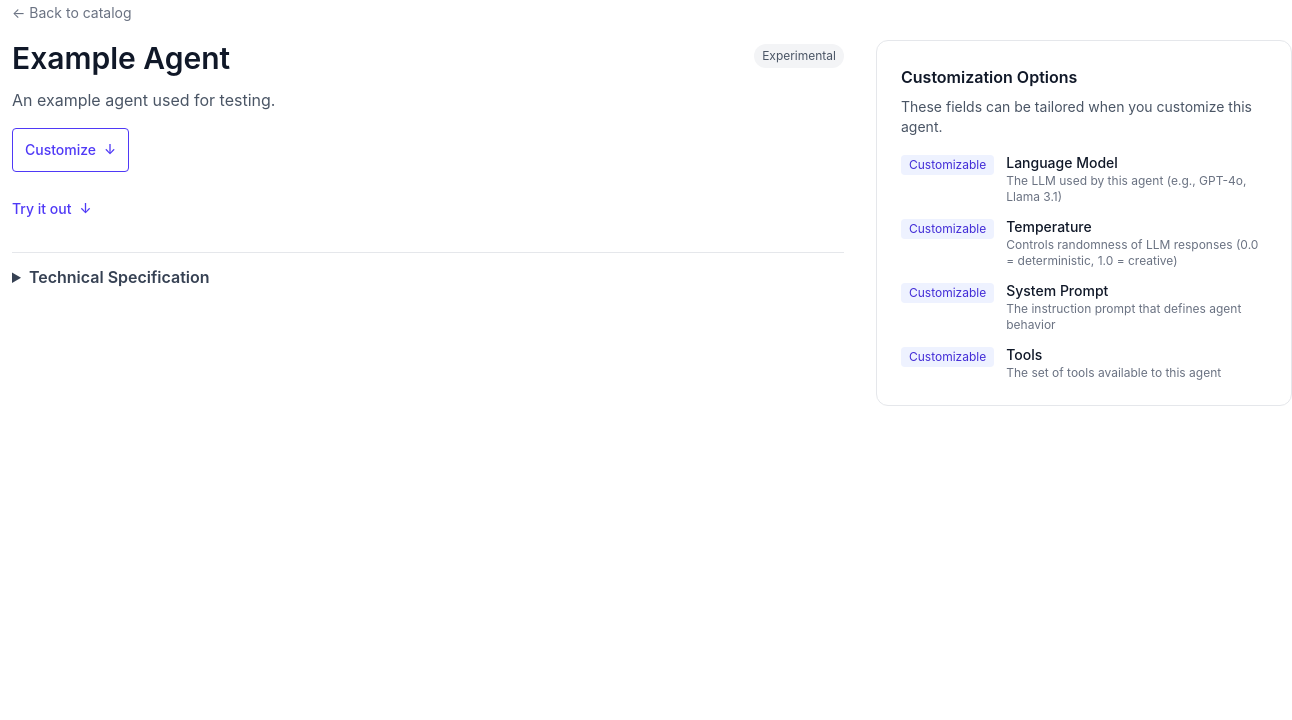
Try It Out affordance › clicking the toggle reveals the existing TryItOutPanel inline below the control
Click the button "Try it out ↓".
click(52, 209)  # box [12,199,92,219]
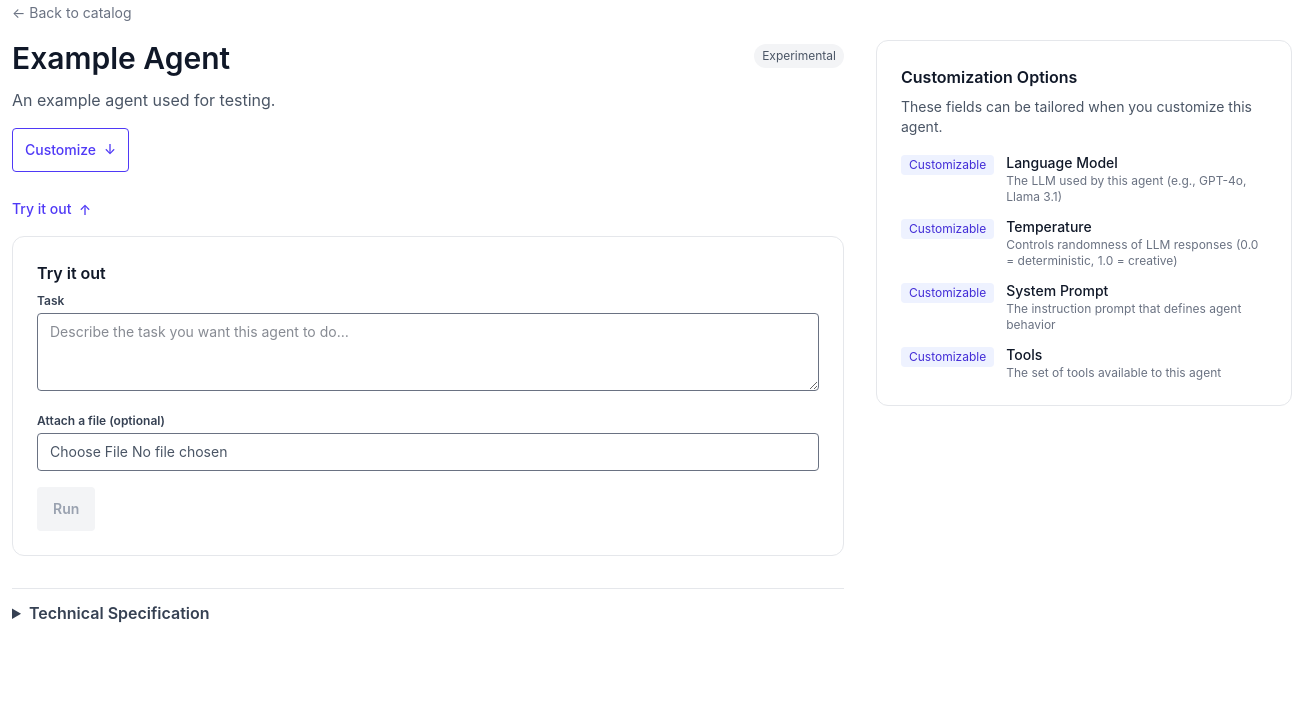
Check: the text box with id "tryitout-task" is shown, box [37,313,819,391]
Check: the button "Run" is shown, box [37,487,95,531]
Check: the button "Try it out ↓" is expanded, box [12,199,92,219]
